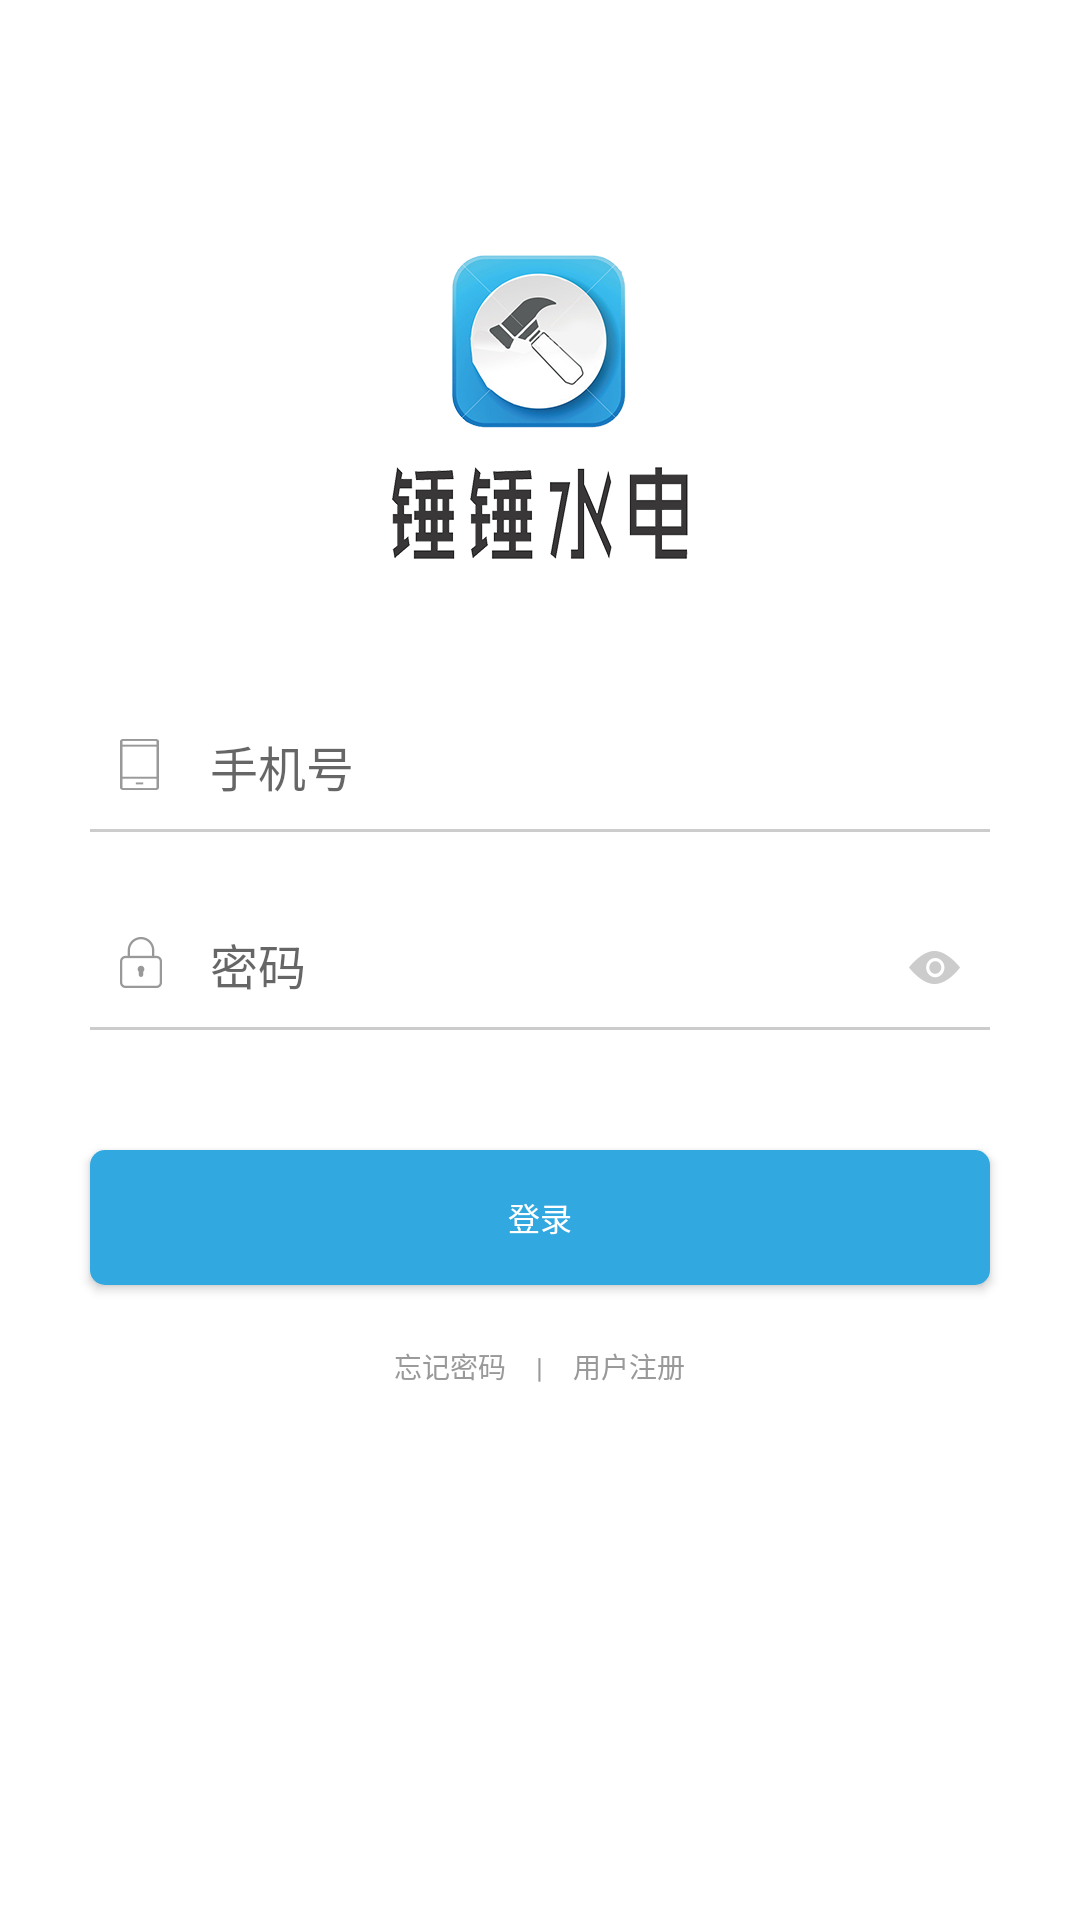

Where to tap for icons on this 1080*1920 app screen, as [x,y]:
password: [141,962]
phone: [139,764]
